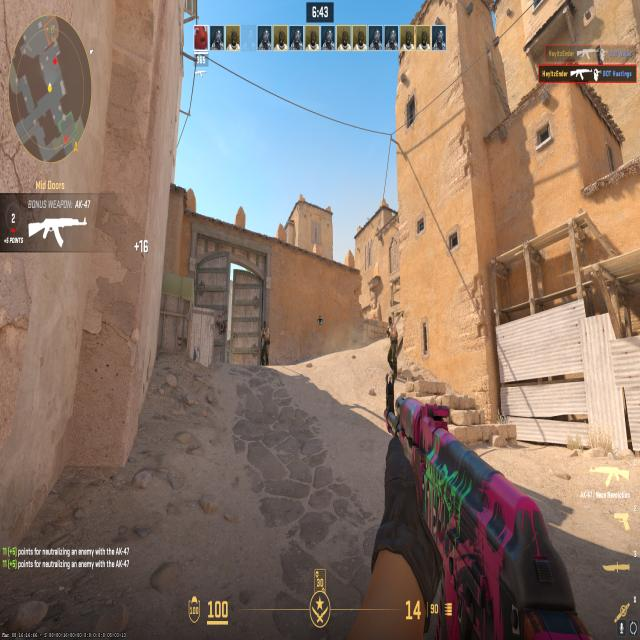t: (382, 313, 402, 377), (256, 318, 272, 366)
